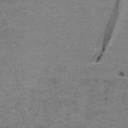finishing roll printing: (96, 0, 120, 62)
